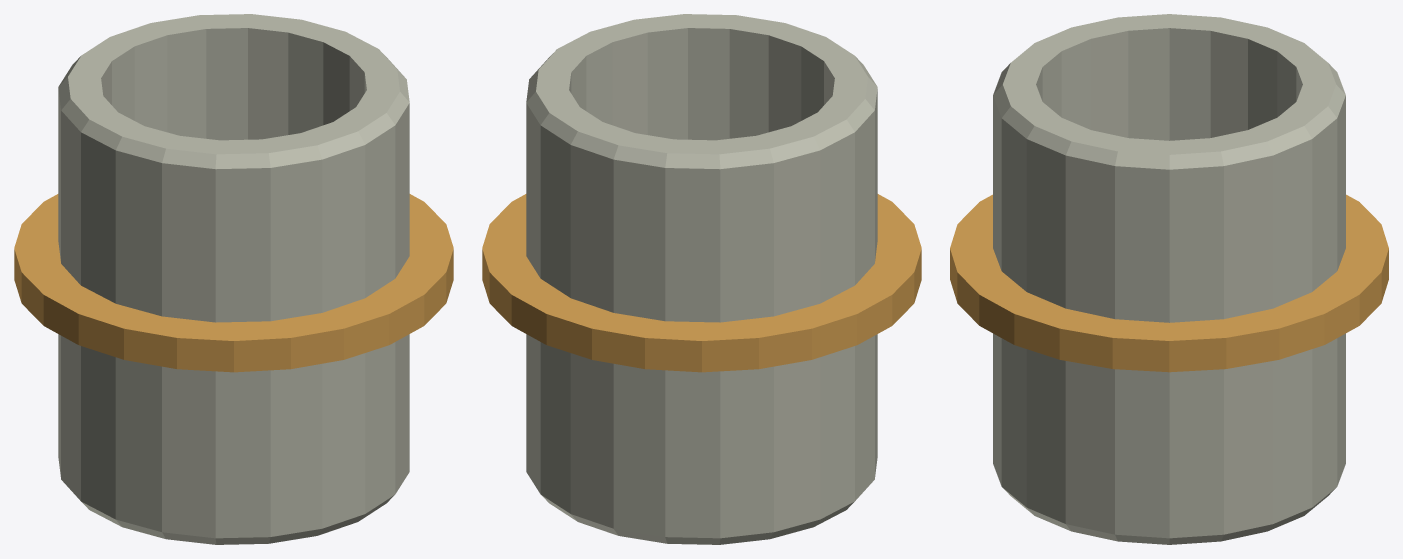
Rendered from Part O Withoring.glb.glb.
3 views of the same model, side by side, from view 1: azimuth 30°, elevation 25°; view 2: azimuth 150°, elevation 25°; view 3: azimuth 270°, elevation 25° (orthographic).
Visible parts, largest first — view 1: Mesh_Mesh_head_geo.001_lambert2SG.001; view 2: Mesh_Mesh_head_geo.001_lambert2SG.001; view 3: Mesh_Mesh_head_geo.001_lambert2SG.001.
Boxes of the visible parts, x1,y1,x2,y2 form: Mesh_Mesh_head_geo.001_lambert2SG.001: (14,14,453,544); Mesh_Mesh_head_geo.001_lambert2SG.001: (482,14,921,544); Mesh_Mesh_head_geo.001_lambert2SG.001: (950,14,1388,544).
Size of the model in its own units: 25.5 by 25 by 25.5.
